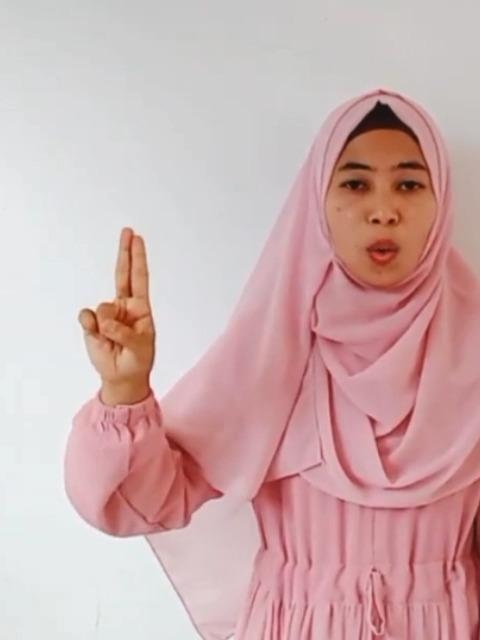U: (69, 227, 167, 381)
